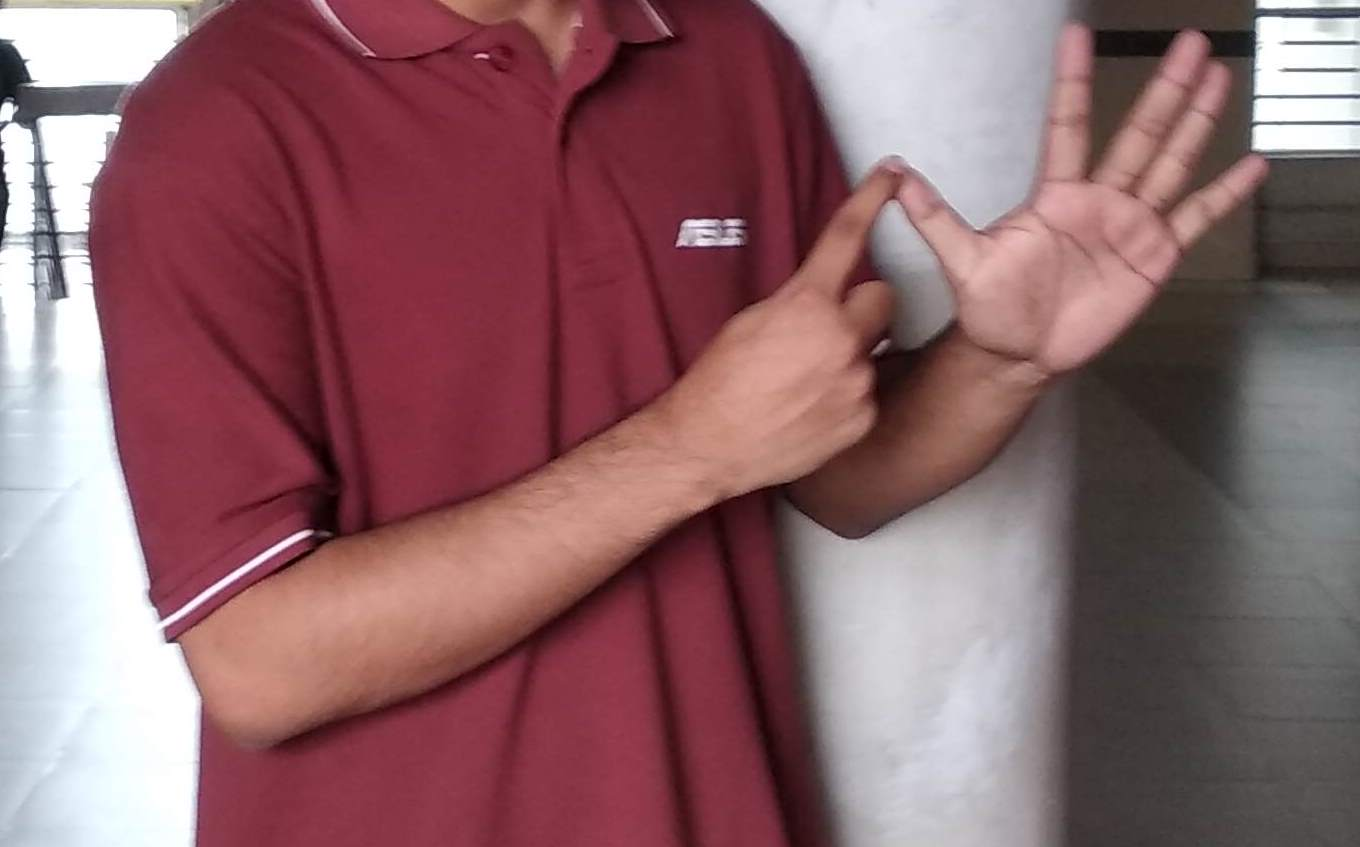a: (785, 38, 1241, 475)
